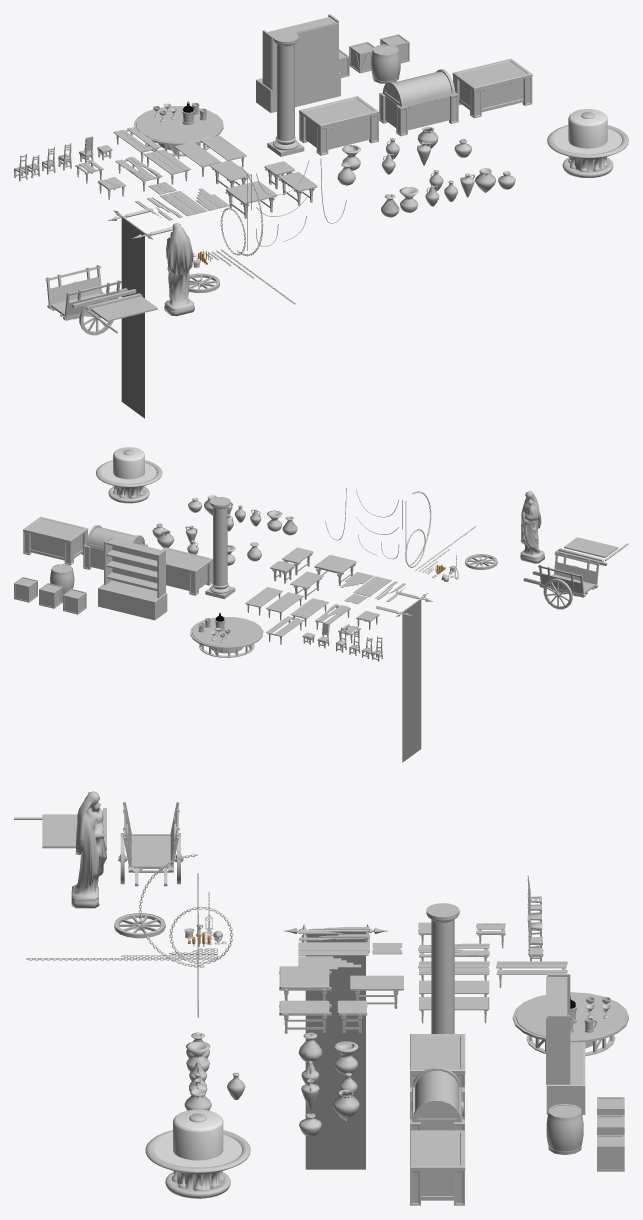
File: DecoInside.FBX
3 views of the same model, one above another, from view 1: azimuth 30°, elevation 25°; view 2: azimuth 150°, elevation 25°; view 3: azimuth 270°, elevation 25° (orthographic). The views are drawn at different scales.
Visible parts, largest first — view 1: Flag, TableRound00, Box478, Column_Deco00, Cylinder001, Statue00, OldWagon00, MedievalChest001, MedievalChest00, MedievalChest002, Cylinder003, Fountain00 (+12 smaller); view 2: Flag, Estante, TableRound00, WoodFurniture, Column_Deco00, OldWagon00, Cylinder001, MedievalChest002, Statue00, Fountain00, Box476, MedievalChest00 (+9 smaller); view 3: Flag, TableRound00, Cylinder001, Column_Deco00, Statue00, Fountain00, Estante, Cylinder003, OldWagon00, Box476, Box469, MedievalChest002 (+14 smaller).
Boxes of the visible parts, x1,y1,x2,y2 form: Flag: [121, 217, 144, 418]; TableRound00: [134, 106, 223, 156]; Box478: [272, 23, 338, 90]; Column_Deco00: [267, 31, 304, 156]; Cylinder001: [554, 109, 621, 154]; Statue00: [164, 223, 194, 316]; OldWagon00: [45, 265, 128, 320]; MedievalChest001: [379, 92, 458, 136]; MedievalChest00: [299, 113, 378, 155]; MedievalChest002: [453, 75, 532, 118]; Cylinder003: [383, 69, 455, 107]; Fountain00: [547, 112, 628, 177]; Flag: [402, 599, 421, 762]; Estante: [104, 536, 165, 598]; TableRound00: [190, 616, 263, 657]; WoodFurniture: [98, 580, 167, 620]; Column_Deco00: [205, 497, 235, 599]; OldWagon00: [523, 552, 599, 597]; Cylinder001: [101, 447, 156, 483]; MedievalChest002: [23, 530, 87, 565]; Statue00: [520, 491, 544, 563]; Fountain00: [96, 449, 162, 503]; Box476: [23, 516, 88, 542]; MedievalChest00: [166, 561, 212, 595]; Flag: [305, 932, 365, 1169]; TableRound00: [512, 992, 628, 1056]; Cylinder001: [154, 1109, 241, 1167]; Column_Deco00: [426, 903, 459, 1033]; Statue00: [71, 791, 106, 908]; Fountain00: [145, 1113, 250, 1198]; Estante: [547, 974, 570, 1084]; Cylinder003: [412, 1067, 461, 1122]; OldWagon00: [123, 801, 179, 886]; Box476: [410, 1130, 465, 1170]; Box469: [410, 1034, 465, 1073]; MedievalChest002: [410, 1170, 464, 1205].
Size of the model in its own units: 3673 by 1772 by 2588.
